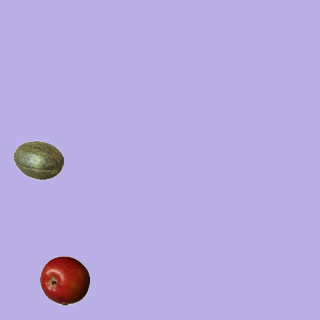Apple Braeburn: (39, 255, 89, 305)
Melon Piel de Sapo: (13, 135, 63, 185)
